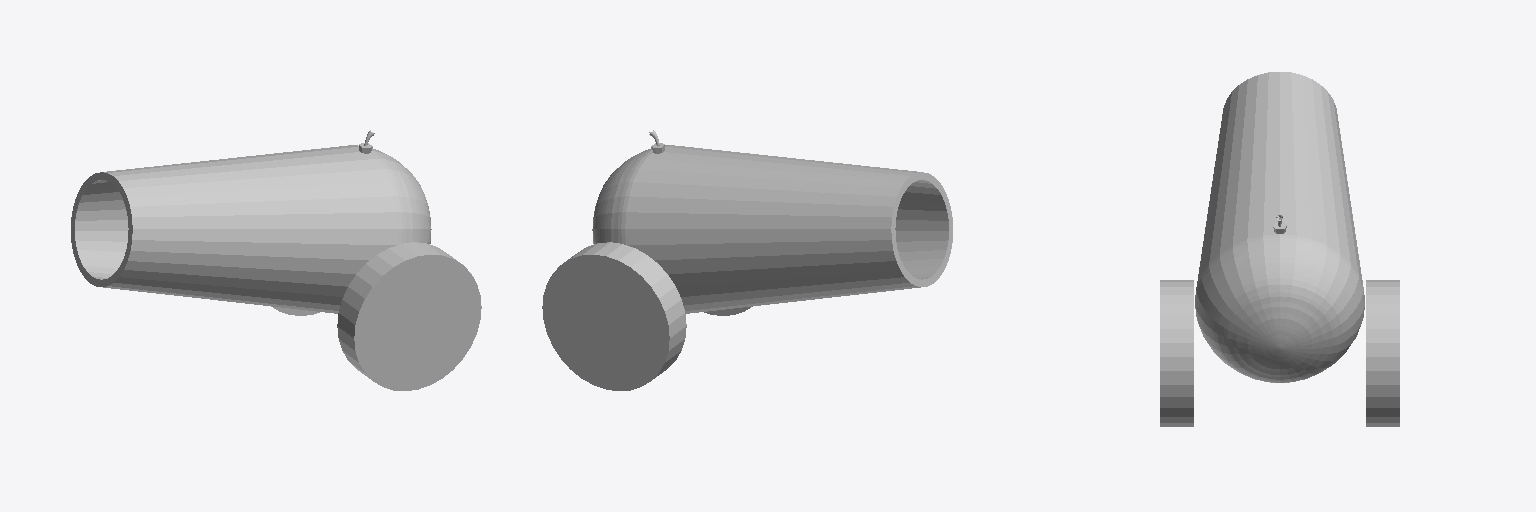
Rendered from cannon.obj.
3 renders of one model, left to right at view 1: azimuth 30°, elevation 25°; view 2: azimuth 150°, elevation 25°; view 3: azimuth 270°, elevation 25°, orthographic.
Visible parts, largest first — view 1: Fuse_Cylinder.003; view 2: Fuse_Cylinder.003; view 3: Fuse_Cylinder.003.
Boxes of the visible parts, x1=… form: Fuse_Cylinder.003: x1=71, y1=130, x2=481, y2=390; Fuse_Cylinder.003: x1=542, y1=130, x2=952, y2=390; Fuse_Cylinder.003: x1=1160, y1=72, x2=1399, y2=426.
Bounding box in the file's own units: 1.99 × 1.32 × 1.25.